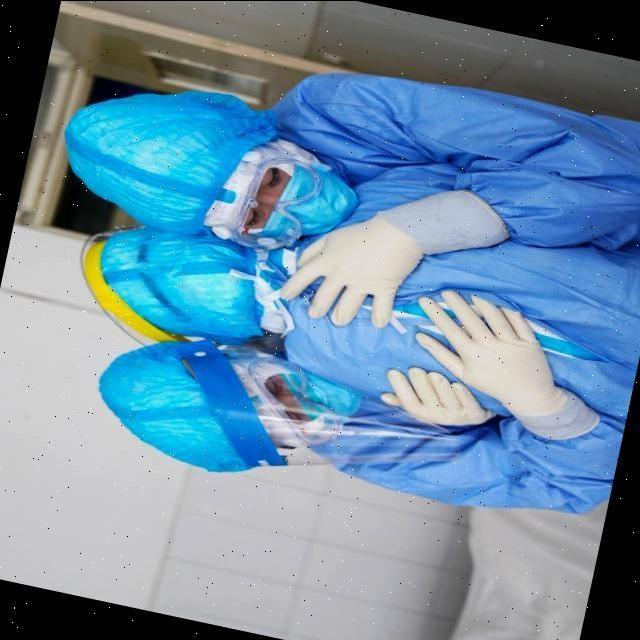apron: (412, 290, 574, 393), (276, 222, 422, 328), (362, 368, 472, 438)
